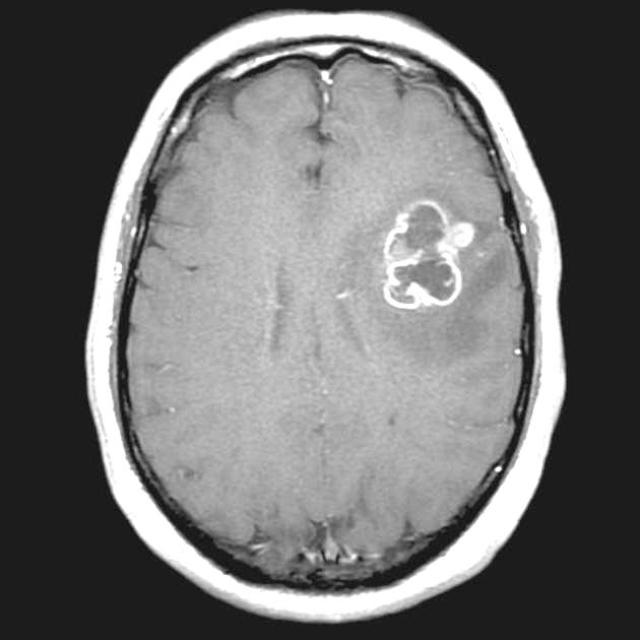Tumor-Cell: (379, 200, 470, 327)
